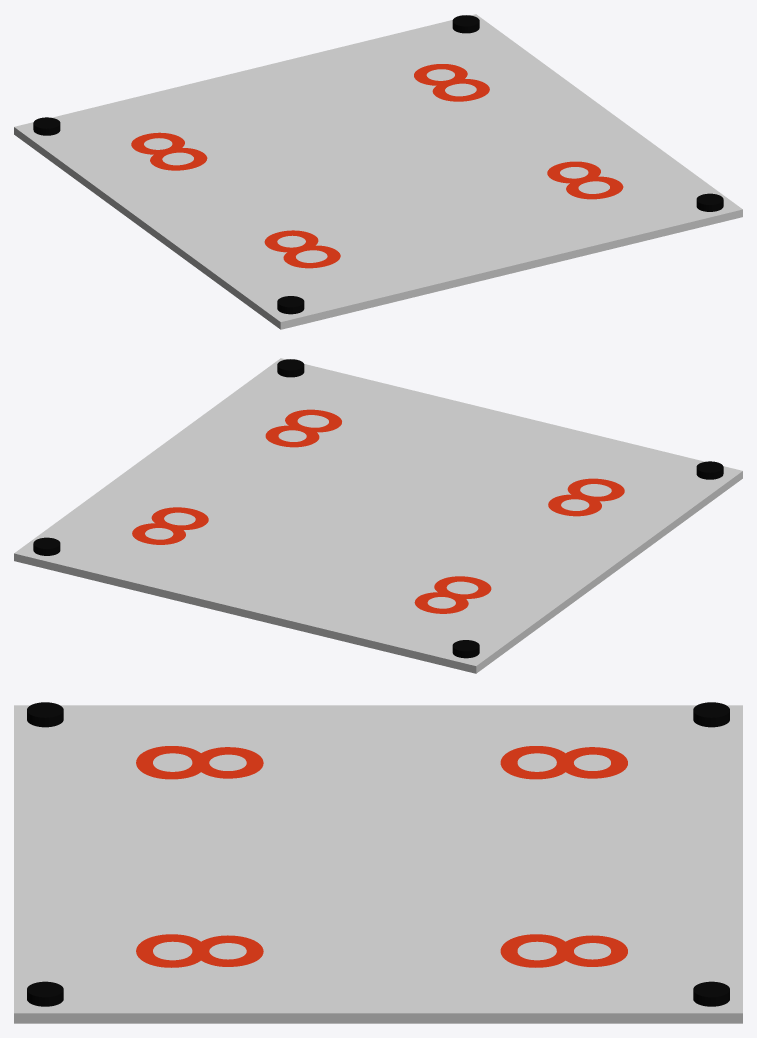
File: n8_room.fbx
3 renders of one model, top to bottom at view 1: azimuth 30°, elevation 25°; view 2: azimuth 150°, elevation 25°; view 3: azimuth 270°, elevation 25°, orthographic. The views are drawn at different scales.
Parts seen in each view (by area): view 1: Plane, 8, Cylinder; view 2: Plane, 8, Cylinder; view 3: Plane, 8, Cylinder.
Part boxes in pixels (bbox=[...]): Plane: bbox=[14, 14, 742, 329]; 8: bbox=[131, 64, 623, 268]; Cylinder: bbox=[33, 15, 723, 314]; Plane: bbox=[14, 358, 742, 673]; 8: bbox=[132, 409, 624, 613]; Cylinder: bbox=[33, 359, 723, 658]; Plane: bbox=[14, 705, 742, 1023]; 8: bbox=[136, 746, 627, 967]; Cylinder: bbox=[27, 702, 729, 1006].
Bounding box in the file's own units: 200 × 6.02 × 200.
